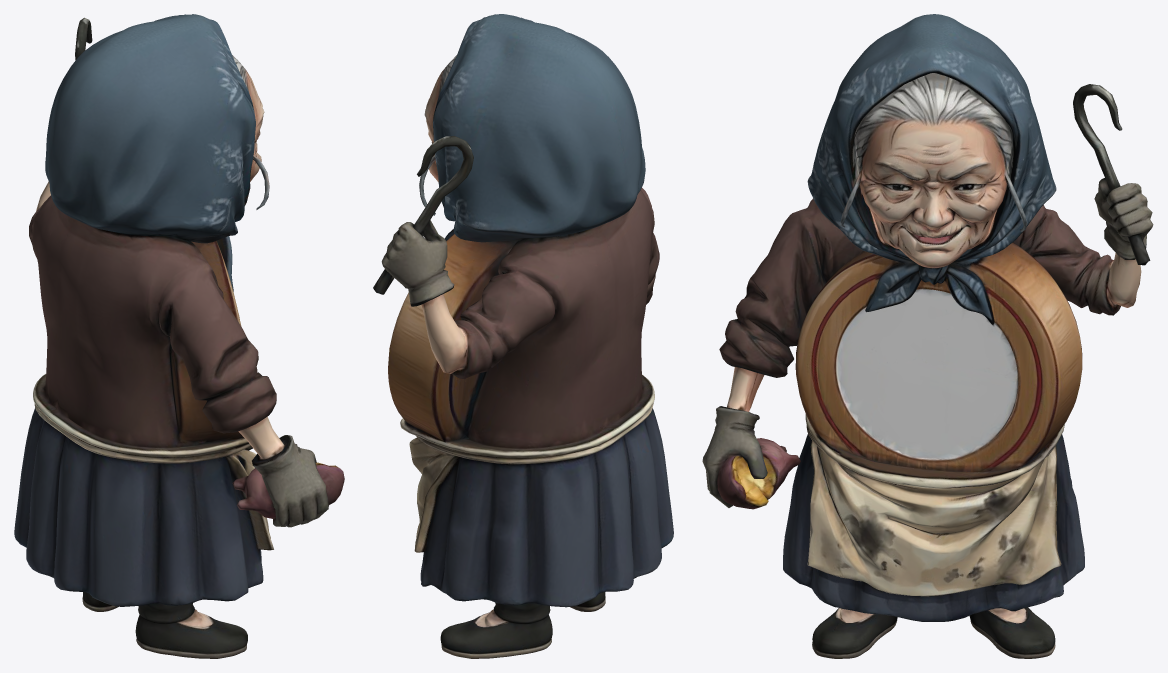
Rendered from p_b1p_yutoupo.glb.
3 views of the same model, side by side, from view 1: azimuth 30°, elevation 25°; view 2: azimuth 150°, elevation 25°; view 3: azimuth 270°, elevation 25° (orthographic). The views are drawn at different scales.
Visible parts, largest first — view 1: tripo_node_9de57bfc-b751-46f5-b649-8b79397845fc; view 2: tripo_node_9de57bfc-b751-46f5-b649-8b79397845fc; view 3: tripo_node_9de57bfc-b751-46f5-b649-8b79397845fc.
Boxes of the visible parts, x1,y1,x2,y2 form: tripo_node_9de57bfc-b751-46f5-b649-8b79397845fc: [14, 14, 344, 658]; tripo_node_9de57bfc-b751-46f5-b649-8b79397845fc: [373, 14, 673, 658]; tripo_node_9de57bfc-b751-46f5-b649-8b79397845fc: [702, 14, 1153, 658].
Bounding box in the file's own units: 0.3613 × 0.9787 × 0.6525.
1 material, 1 textured.
